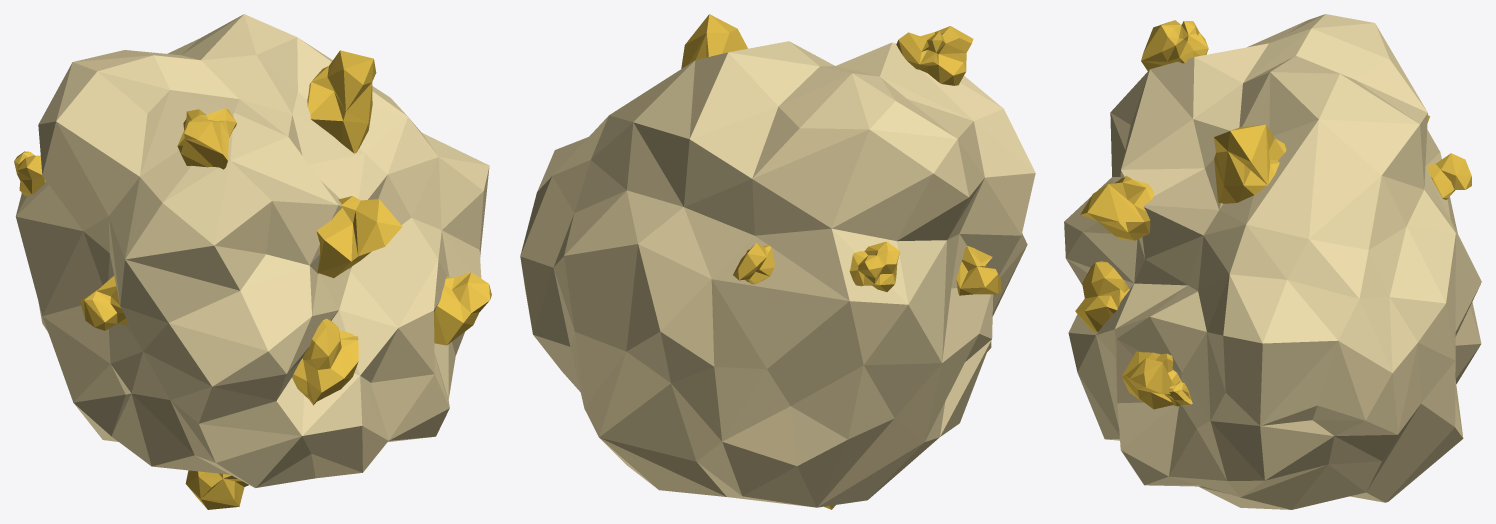
File: MetalOre (11).fbx
The picture shows the model from 3 angles, left to right: view 1: azimuth 30°, elevation 25°; view 2: azimuth 150°, elevation 25°; view 3: azimuth 270°, elevation 25°; orthographic projection. The views are drawn at different scales.
Visible parts, largest first — view 1: Asteroid366; view 2: Asteroid366; view 3: Asteroid366.
Boxes of the visible parts, bbox=[...] form: Asteroid366: bbox=[14, 14, 491, 509]; Asteroid366: bbox=[520, 14, 1035, 509]; Asteroid366: bbox=[1064, 14, 1481, 509].
Size of the model in its own units: 430 by 437 by 374.
